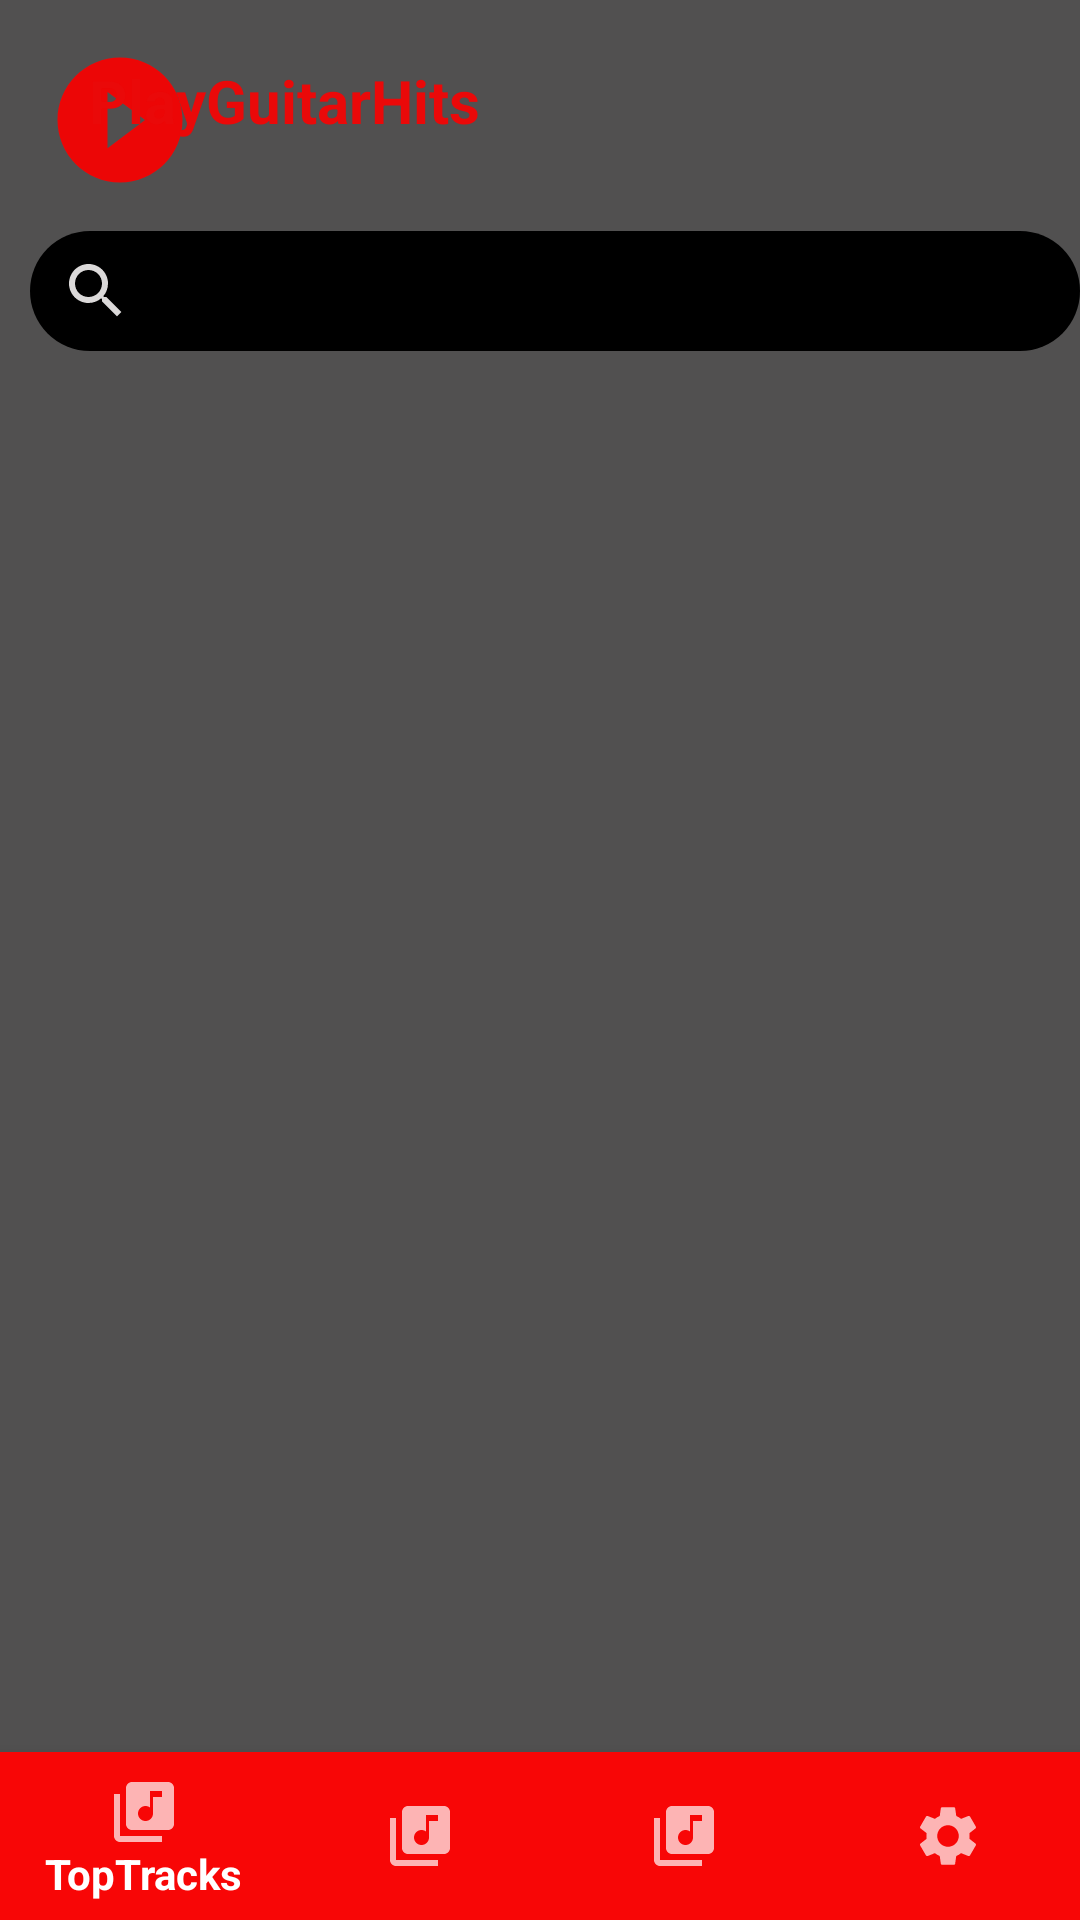

Icon click points for this 1080×1920 phone screenshot, format (x=x, y=y):
play circle: (x=126, y=120)
